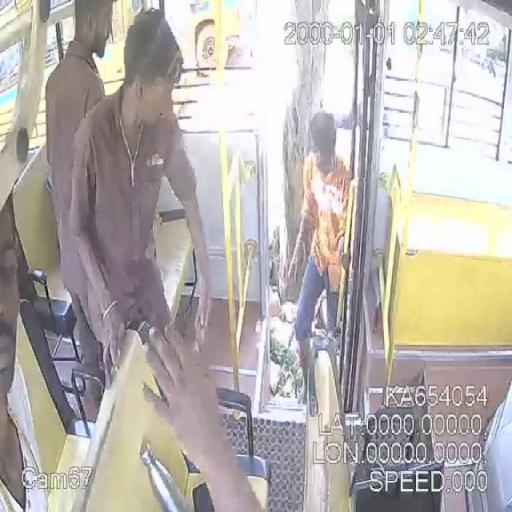persona: (64, 8, 214, 408), (44, 1, 117, 416), (291, 110, 356, 407)
